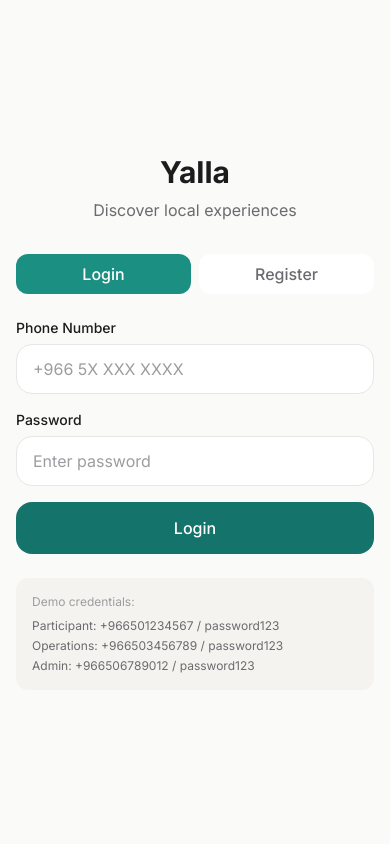
Scenario: LoginPage › switches to register mode when register button is clicked
The width and height of the screenshot is (390, 844).
Click the button "Register": (286, 274) [199, 254, 374, 294]
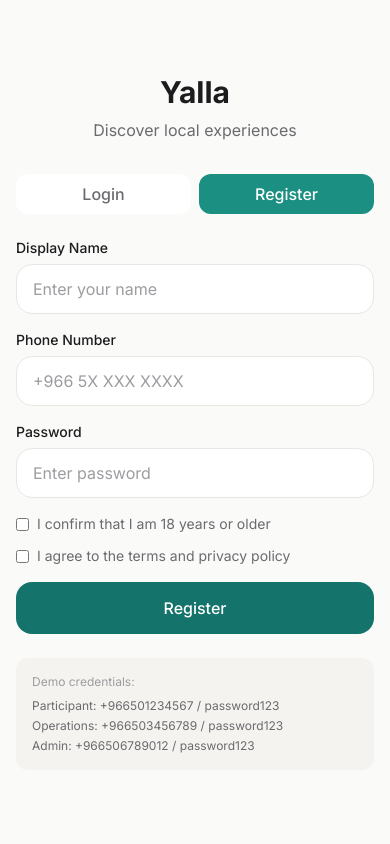
Expected: the text "Display Name" is shown, [16, 239, 108, 256]
Expected: the text "I confirm that I am 18 years or older" is shown, [37, 514, 271, 534]
Expected: the text "I agree to the terms and privacy policy" is shown, [37, 546, 290, 566]
